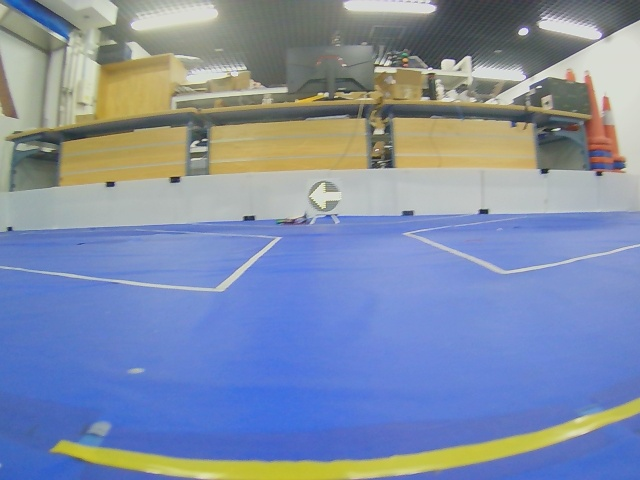left_yellow: (308, 181, 342, 212)
